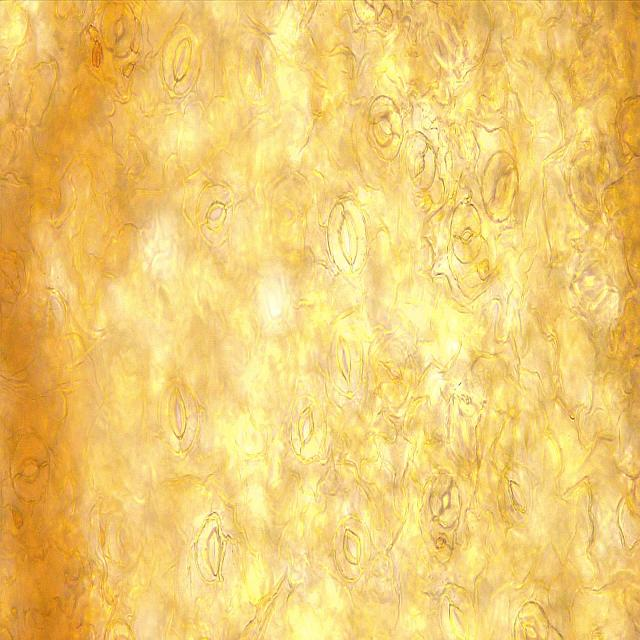Stomata: (160, 22, 203, 98), (238, 32, 278, 108), (159, 380, 200, 454), (327, 200, 367, 274), (480, 150, 520, 223), (373, 337, 413, 410), (10, 433, 51, 504), (196, 181, 236, 250), (334, 515, 372, 581), (496, 464, 534, 530), (367, 94, 403, 163), (569, 152, 607, 217), (327, 327, 362, 397), (290, 393, 325, 461), (570, 253, 609, 313), (195, 515, 228, 585), (439, 584, 479, 640), (99, 0, 136, 59), (450, 200, 482, 266), (405, 133, 437, 191), (429, 472, 462, 528), (513, 598, 549, 640)
